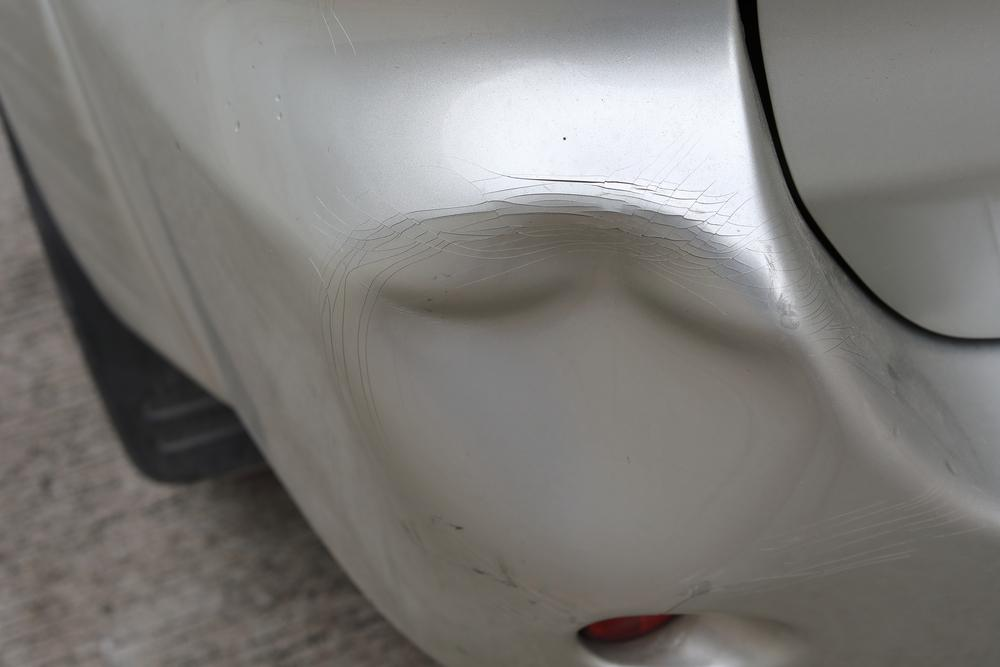dent: (350, 198, 838, 583)
